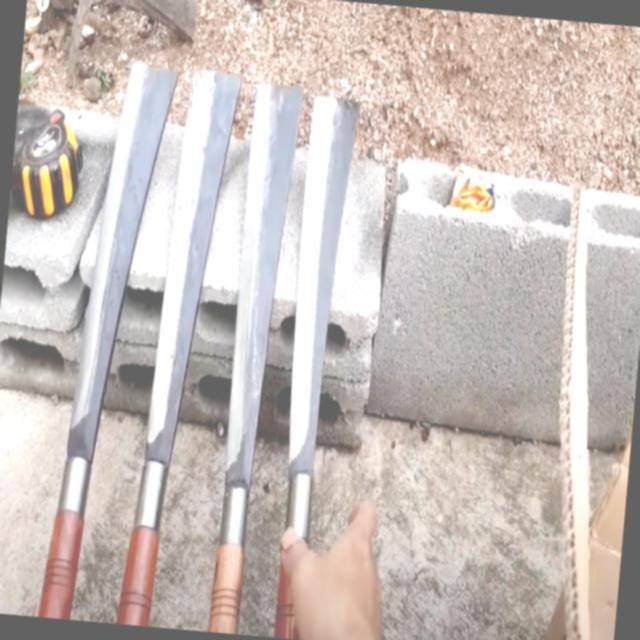eto: (39, 55, 177, 619)
